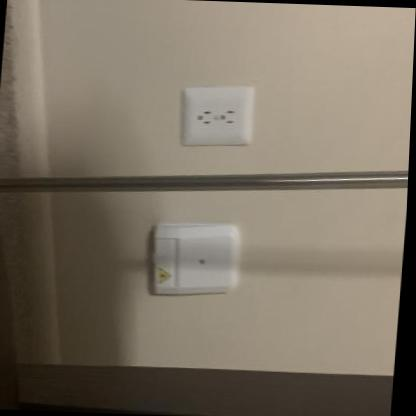OUTLET: (179, 82, 257, 150)
